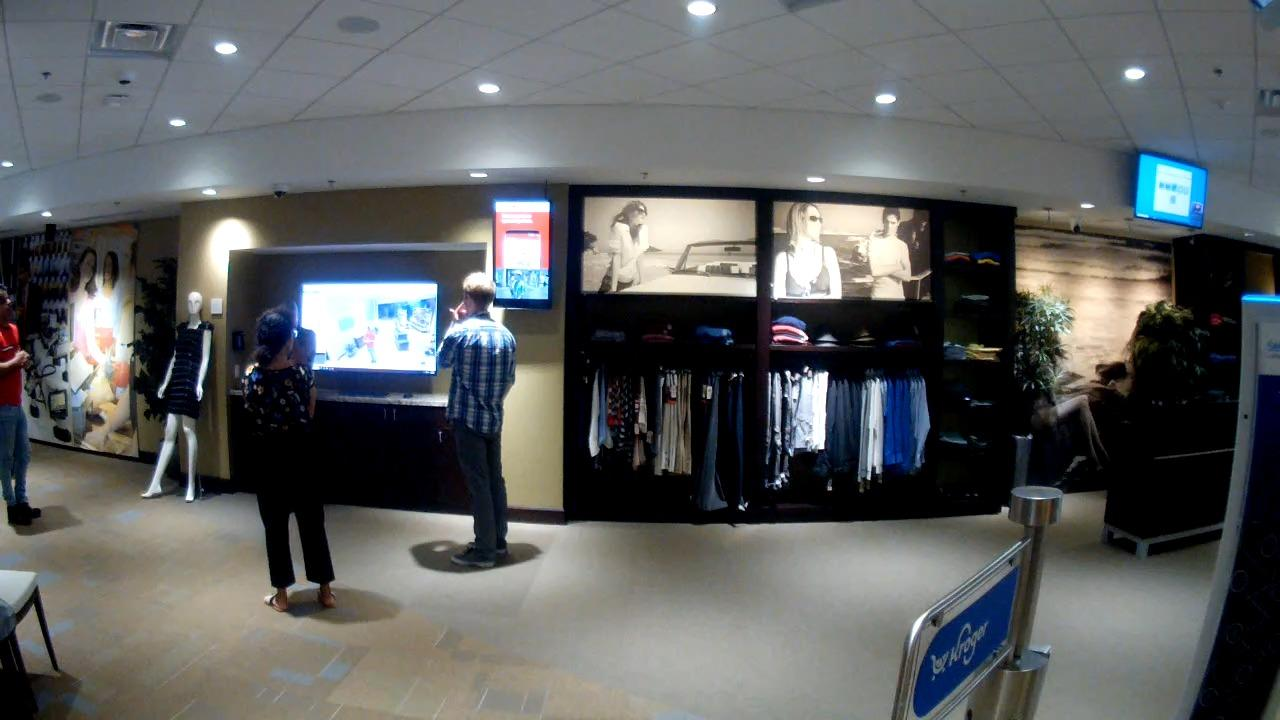normal: (239, 299, 341, 627), (430, 258, 522, 572), (139, 284, 216, 501), (0, 268, 41, 550)
